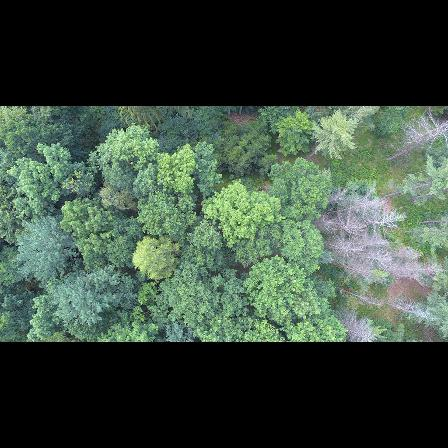Dead: (388, 108, 448, 161), (374, 294, 434, 325), (366, 258, 446, 281), (332, 308, 382, 342), (363, 239, 422, 263), (333, 285, 384, 309), (316, 212, 359, 238), (326, 259, 374, 281), (360, 208, 408, 230), (321, 239, 366, 259), (356, 232, 401, 248), (336, 200, 380, 211), (323, 185, 346, 206)
